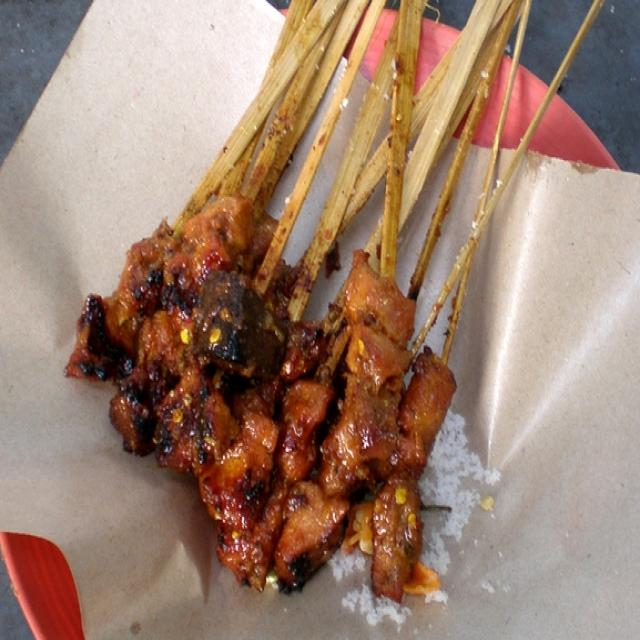牛肉菜式: (31, 24, 616, 624)
